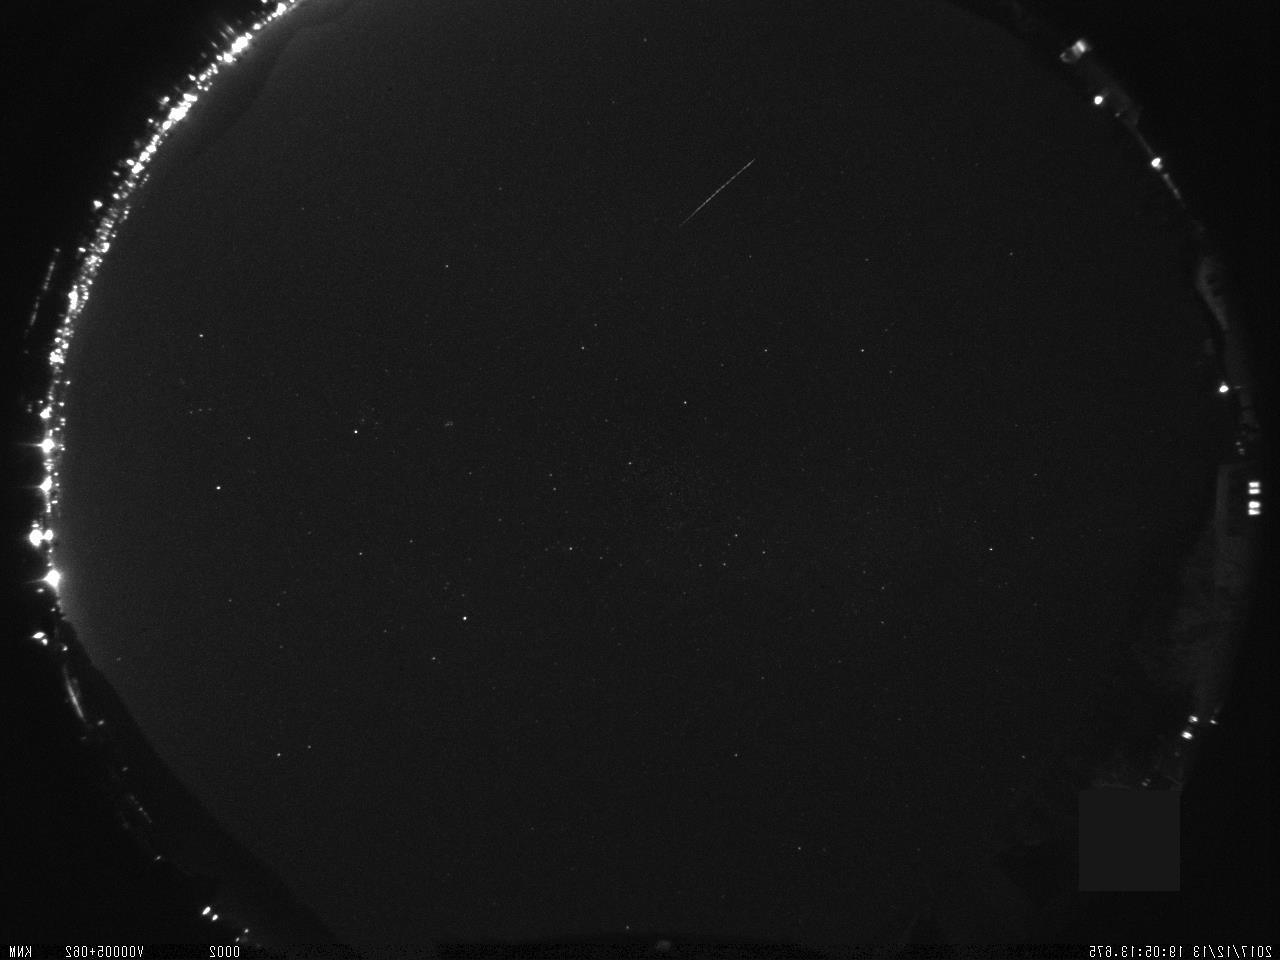meteor: (671, 145, 757, 238)
